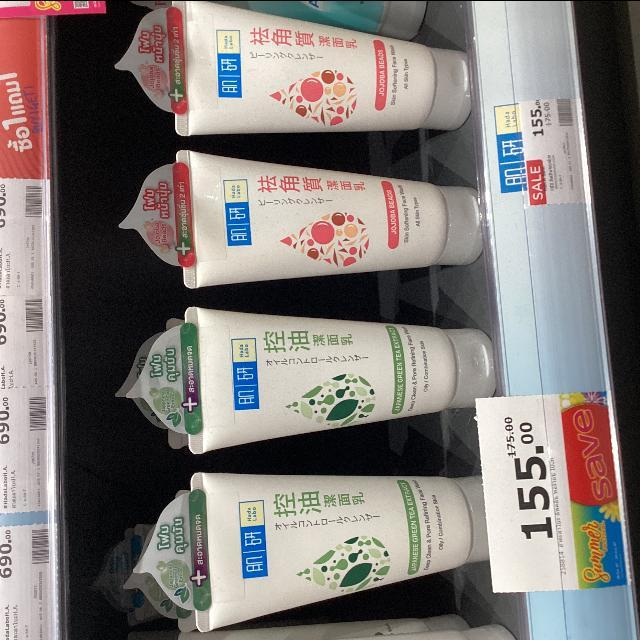Squeeze Tube: (97, 0, 532, 639), (192, 472, 491, 637), (160, 0, 480, 137), (171, 157, 492, 290), (183, 313, 491, 451)
